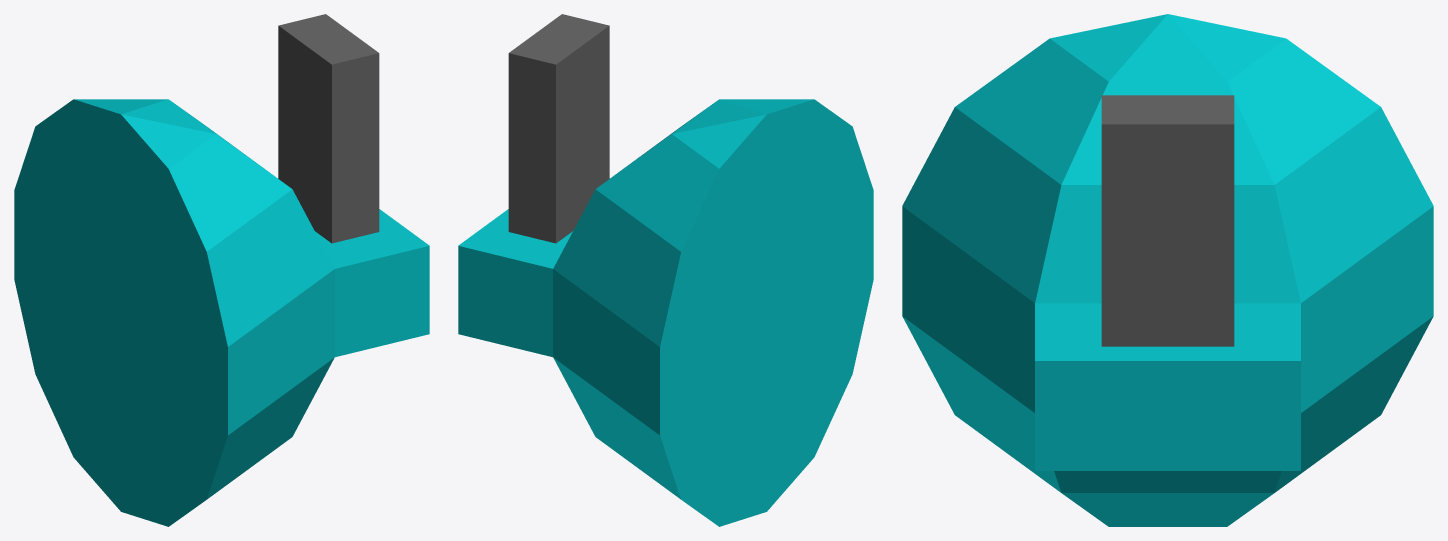
File: Splitter first side.fbx
3 views of the same model, side by side, from view 1: azimuth 30°, elevation 25°; view 2: azimuth 150°, elevation 25°; view 3: azimuth 270°, elevation 25° (orthographic). The views are drawn at different scales.
Visible parts, largest first — view 1: Sphere; view 2: Sphere; view 3: Sphere.
Part boxes in pixels (x1,y1,x2,y2): Sphere: [14, 14, 429, 526]; Sphere: [458, 14, 873, 526]; Sphere: [902, 14, 1433, 526].
Size of the model in its own units: 134 by 212 by 195.
